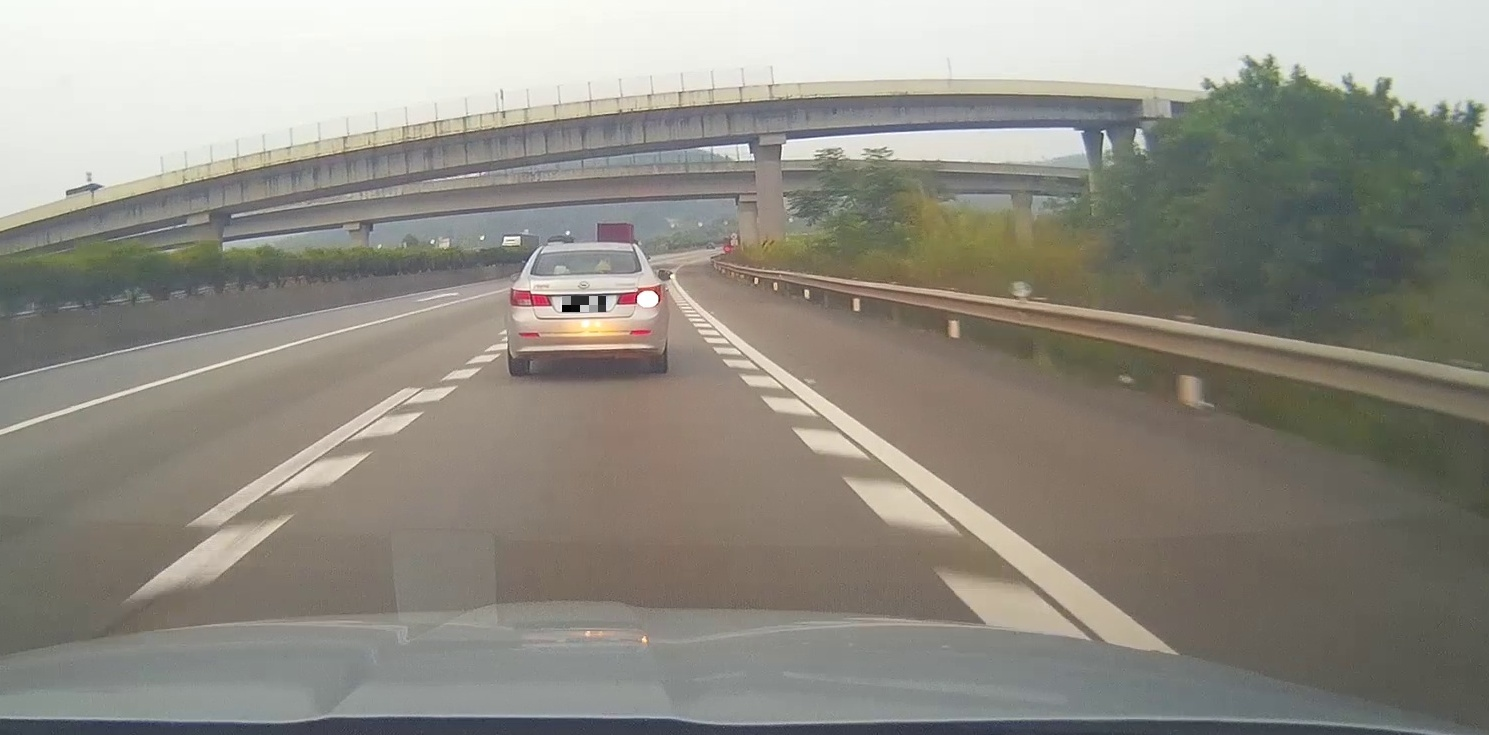L_light: (509, 288, 553, 306)
R_light: (617, 284, 662, 305)
T_light: (575, 272, 597, 274)
day-right: (506, 242, 670, 377)
plate_1: (562, 296, 606, 312)
